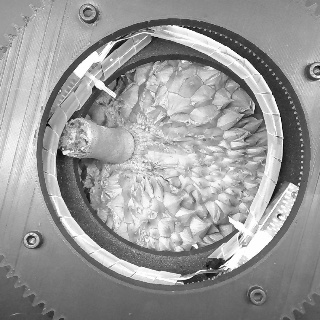base: (105, 123, 145, 169)
end: (61, 118, 90, 156)
